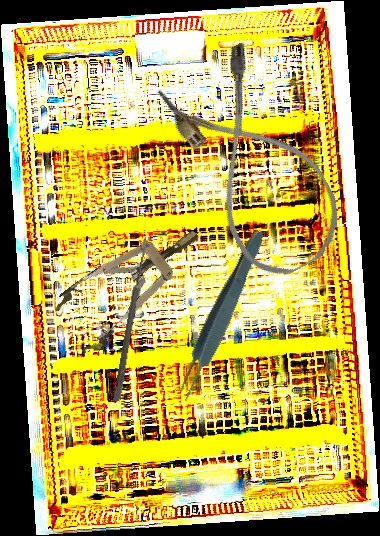Cannula: (152, 38, 358, 290)
Speculum: (46, 207, 218, 360)
Surgical Spoon: (113, 236, 150, 402)
Tissue Forceps: (170, 226, 271, 405)
